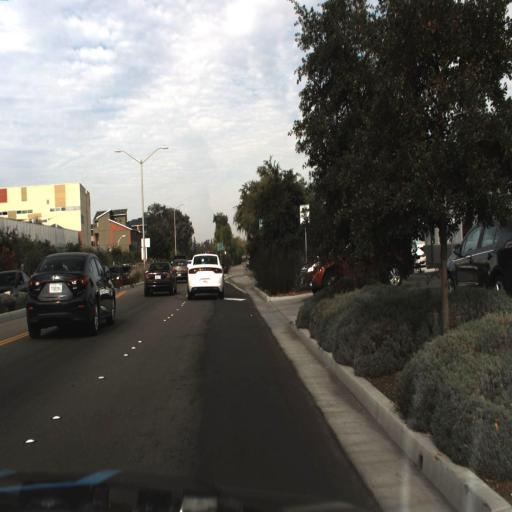car: (22, 251, 117, 340), (302, 245, 419, 303), (443, 211, 511, 305), (184, 248, 226, 300), (140, 254, 175, 302)
